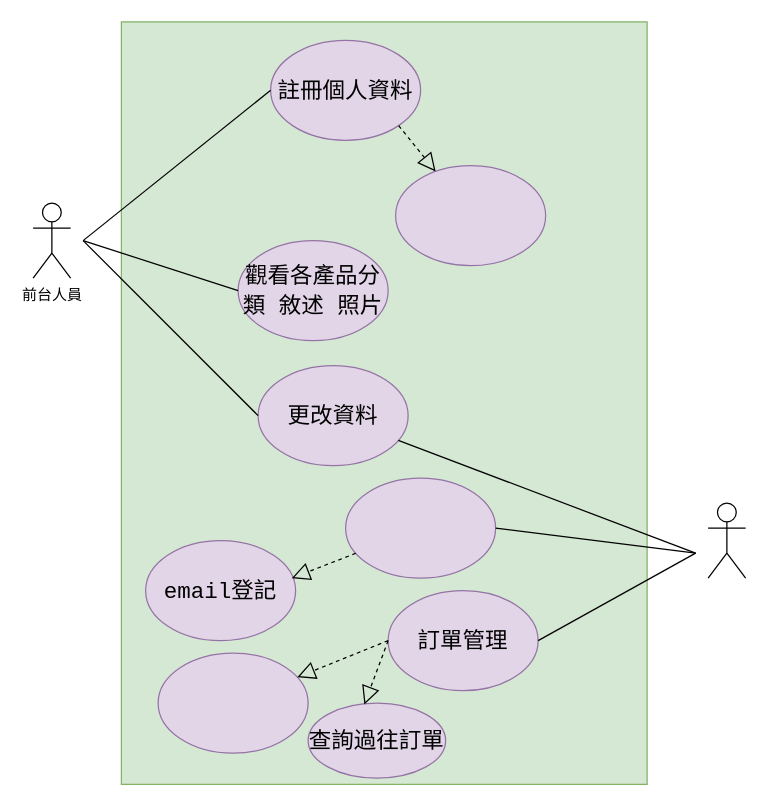
This 778x806 diagram has some shape labels left out. Here are the shapes that lost their labels. From the top down, the centre of each, then its label:
At pixel 470 215: "登入".
At pixel 420 527: "註冊後台個人資料".
At pixel 726 540: "後台人員".
At pixel 232 702: "修改訂單".
